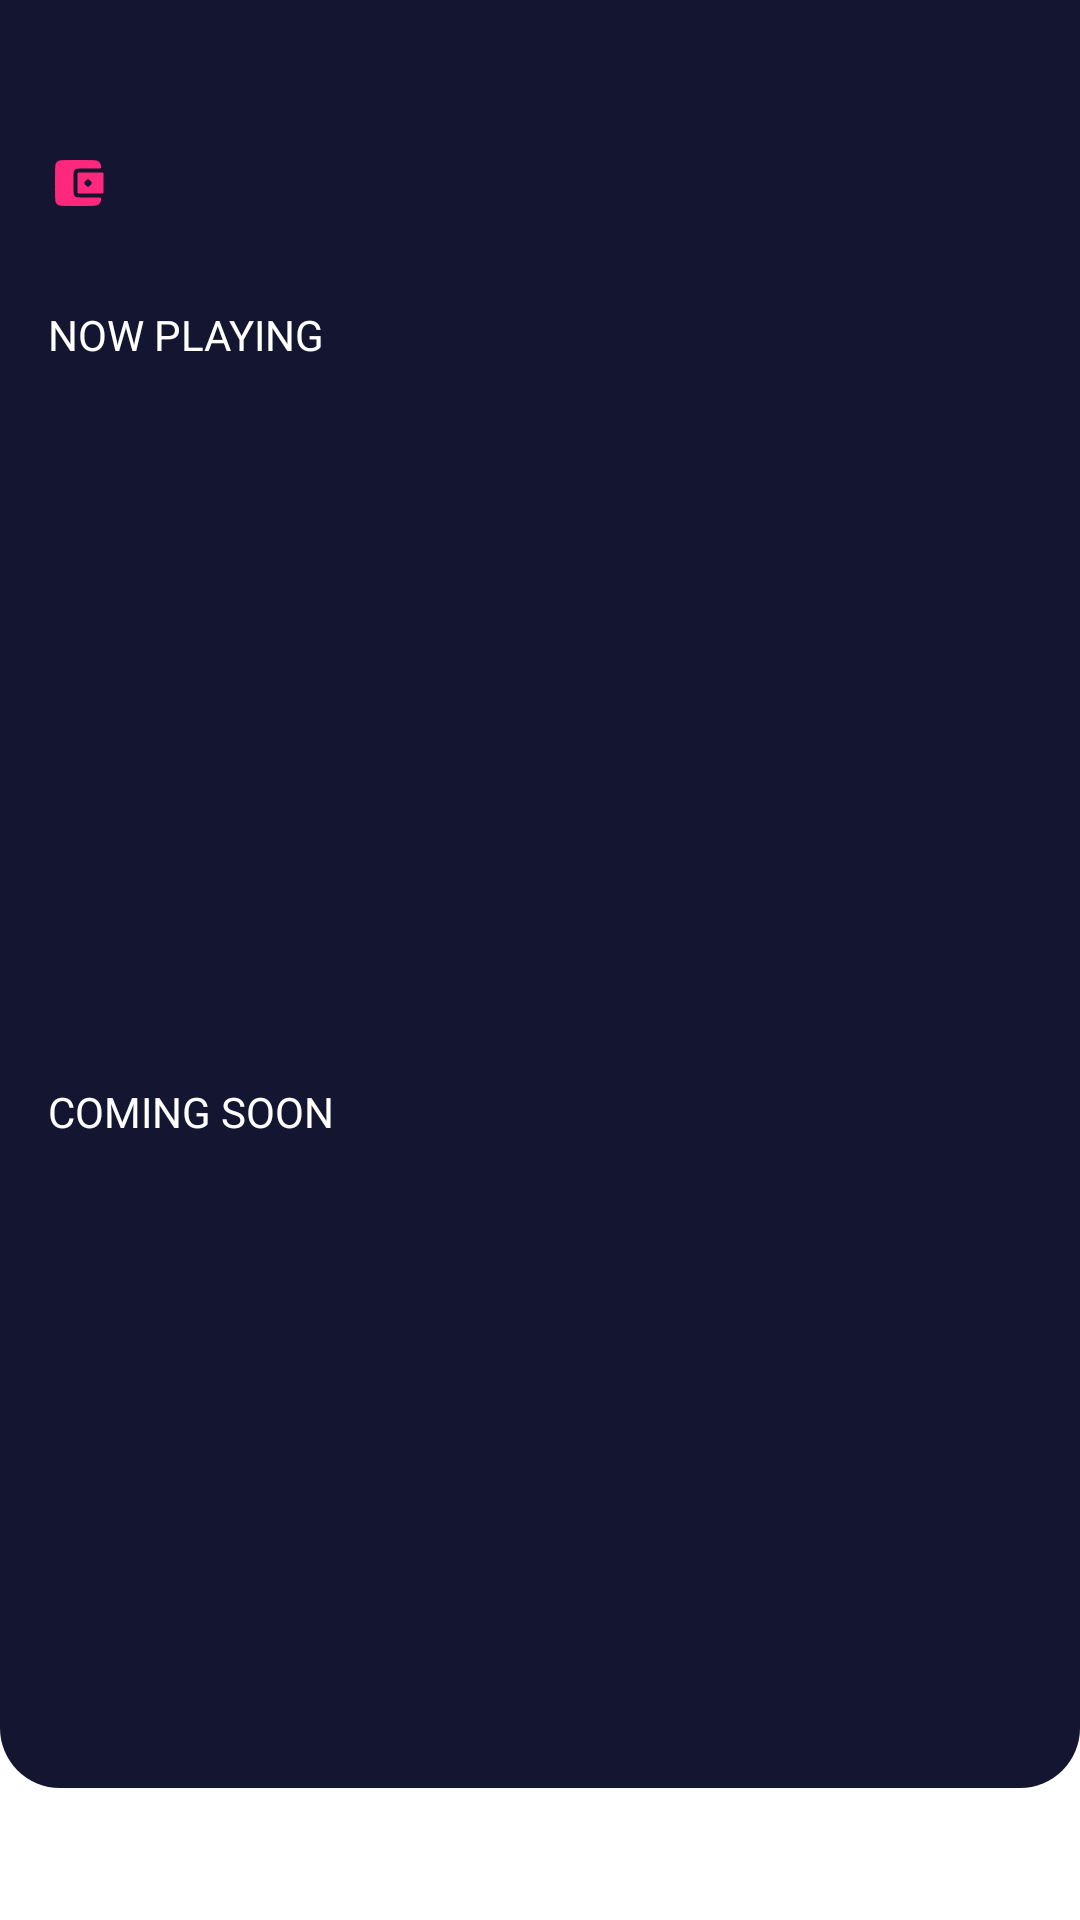

Where to tap for icons on this 1080px x 1920px app screen, as point (x, y):
wallet: point (79, 183)
